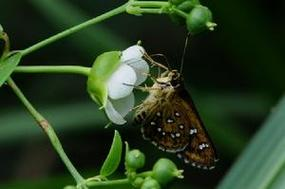Hesperiidae: (120, 34, 210, 170)
